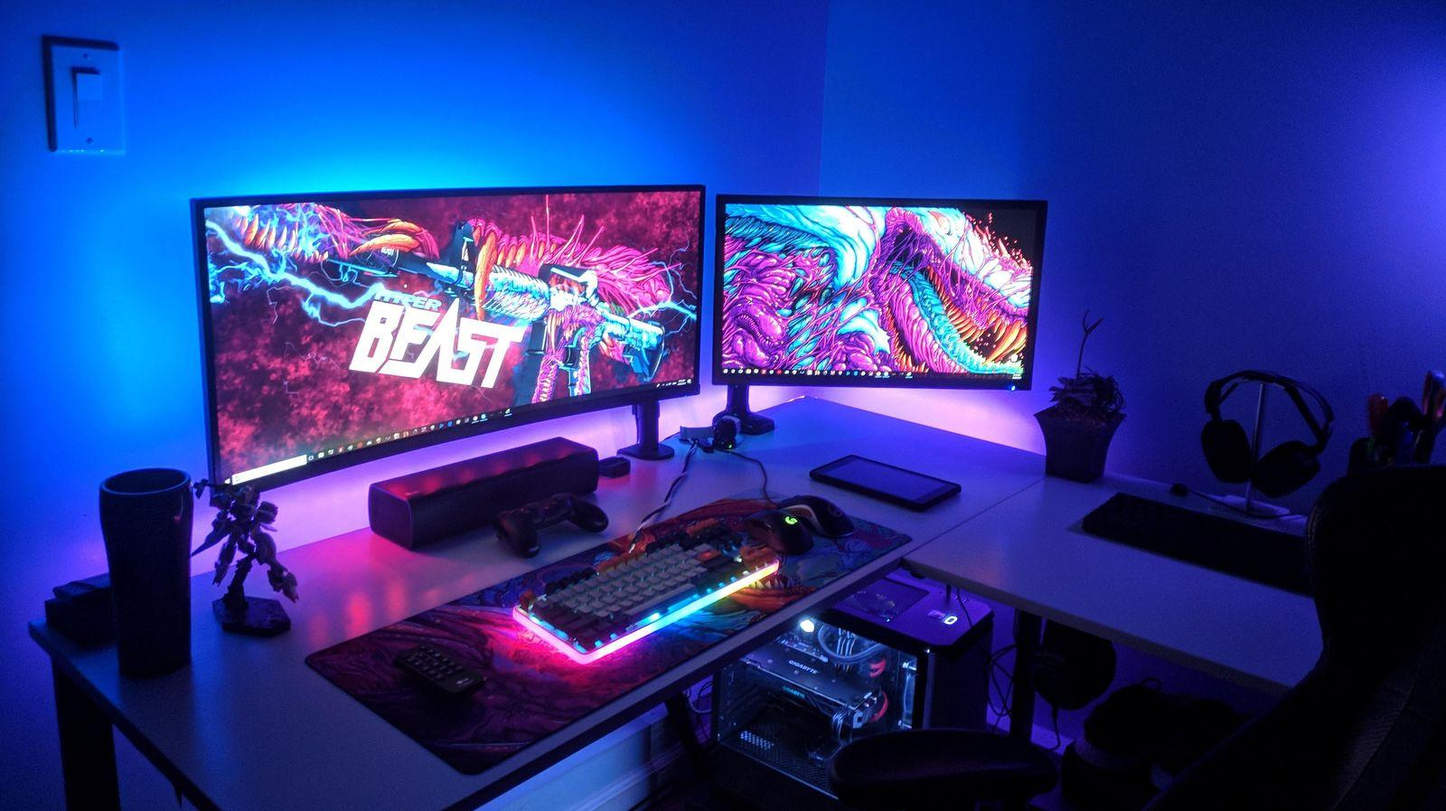monitor: (188, 181, 706, 497), (714, 182, 1051, 438)
